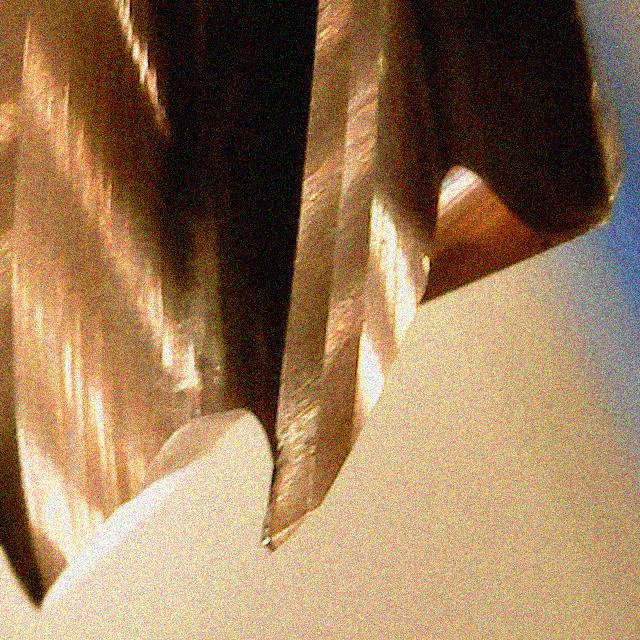Tool-wear-class-1: (240, 230, 396, 560)
